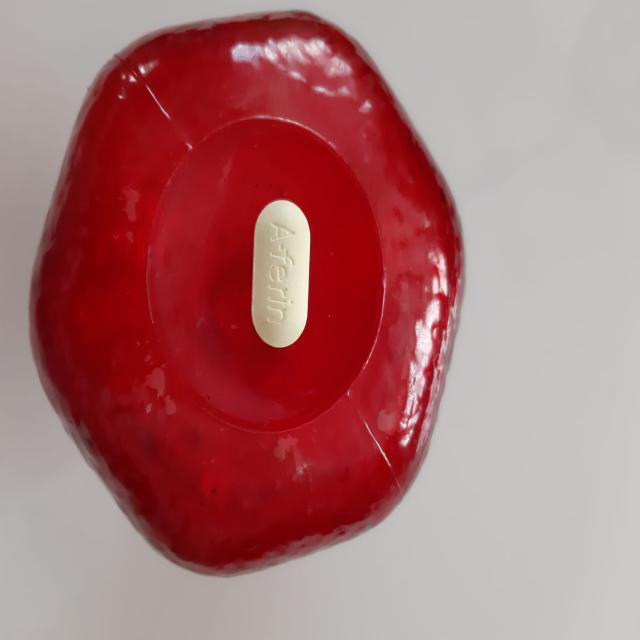pills: (238, 185, 320, 358)
